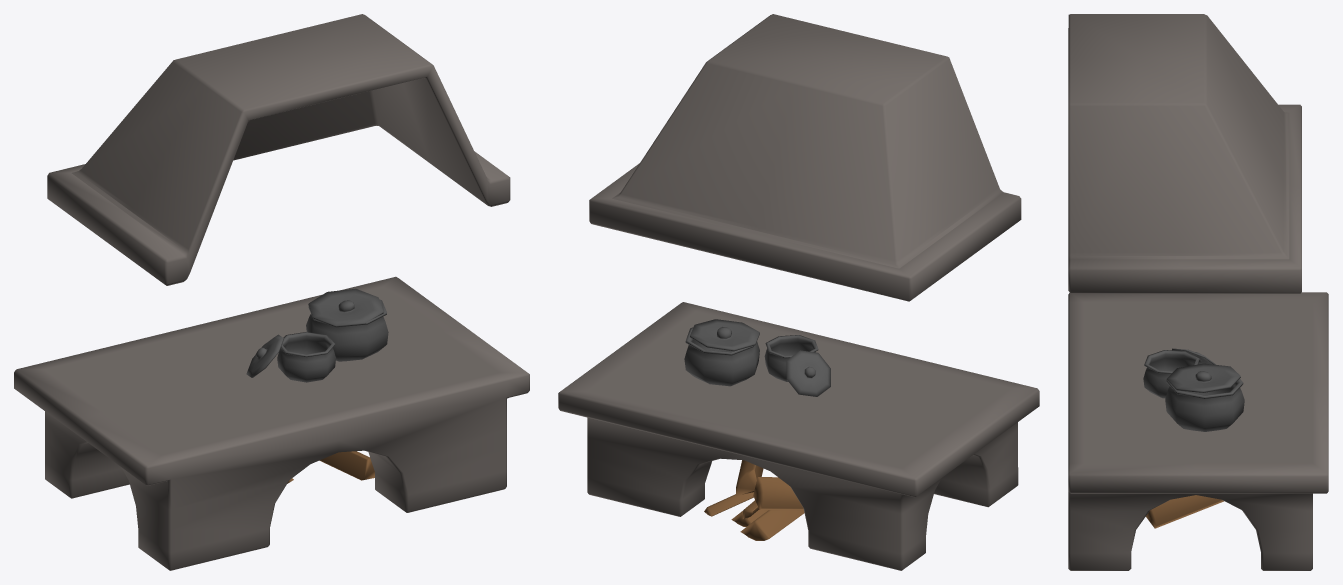
File: Kitchen_Fireplace.glb
3 views of the same model, side by side, from view 1: azimuth 30°, elevation 25°; view 2: azimuth 150°, elevation 25°; view 3: azimuth 270°, elevation 25° (orthographic). The views are drawn at different scales.
Visible parts, largest first — view 1: Kitchen_Fireplace; view 2: Kitchen_Fireplace; view 3: Kitchen_Fireplace.
Boxes of the visible parts, <box> form: Kitchen_Fireplace: <box>14,14,529,570</box>; Kitchen_Fireplace: <box>558,14,1039,570</box>; Kitchen_Fireplace: <box>1068,14,1328,570</box>.
Size of the model in its own units: 2 by 2.2 by 1.2.
